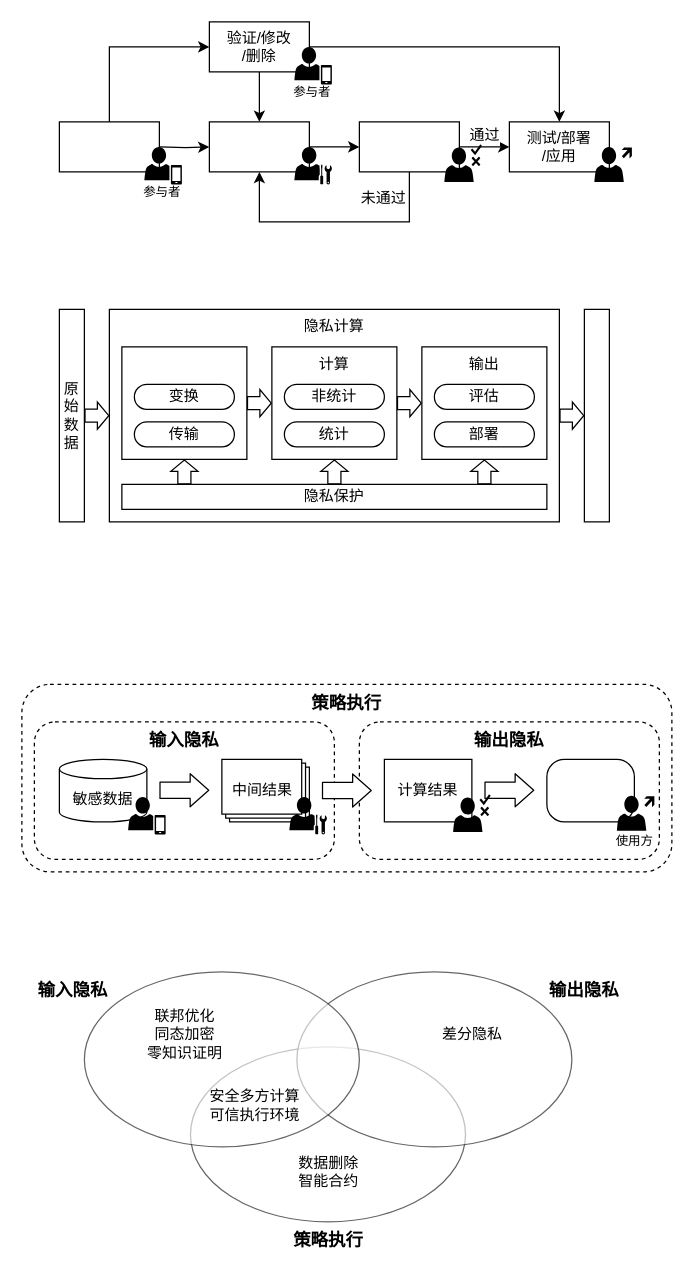
Some shapes in this 694 by 1274 pixel diagram are drawn without their labels. Each missing label, with the box of its shape:
业务应用: (583, 308, 609, 522)
使用者: (594, 146, 631, 181)
分析者: (444, 144, 481, 181)
参与方: (128, 796, 165, 834)
敏感数据 生成: (58, 121, 159, 172)
测评方: (452, 794, 490, 831)
管理者: (294, 146, 331, 184)
计算方: (289, 796, 326, 834)
输入: (121, 346, 247, 459)
部署结果: (546, 758, 634, 822)
隐私/效用 评估: (358, 121, 459, 172)
隐私保护 计算: (208, 121, 309, 172)
